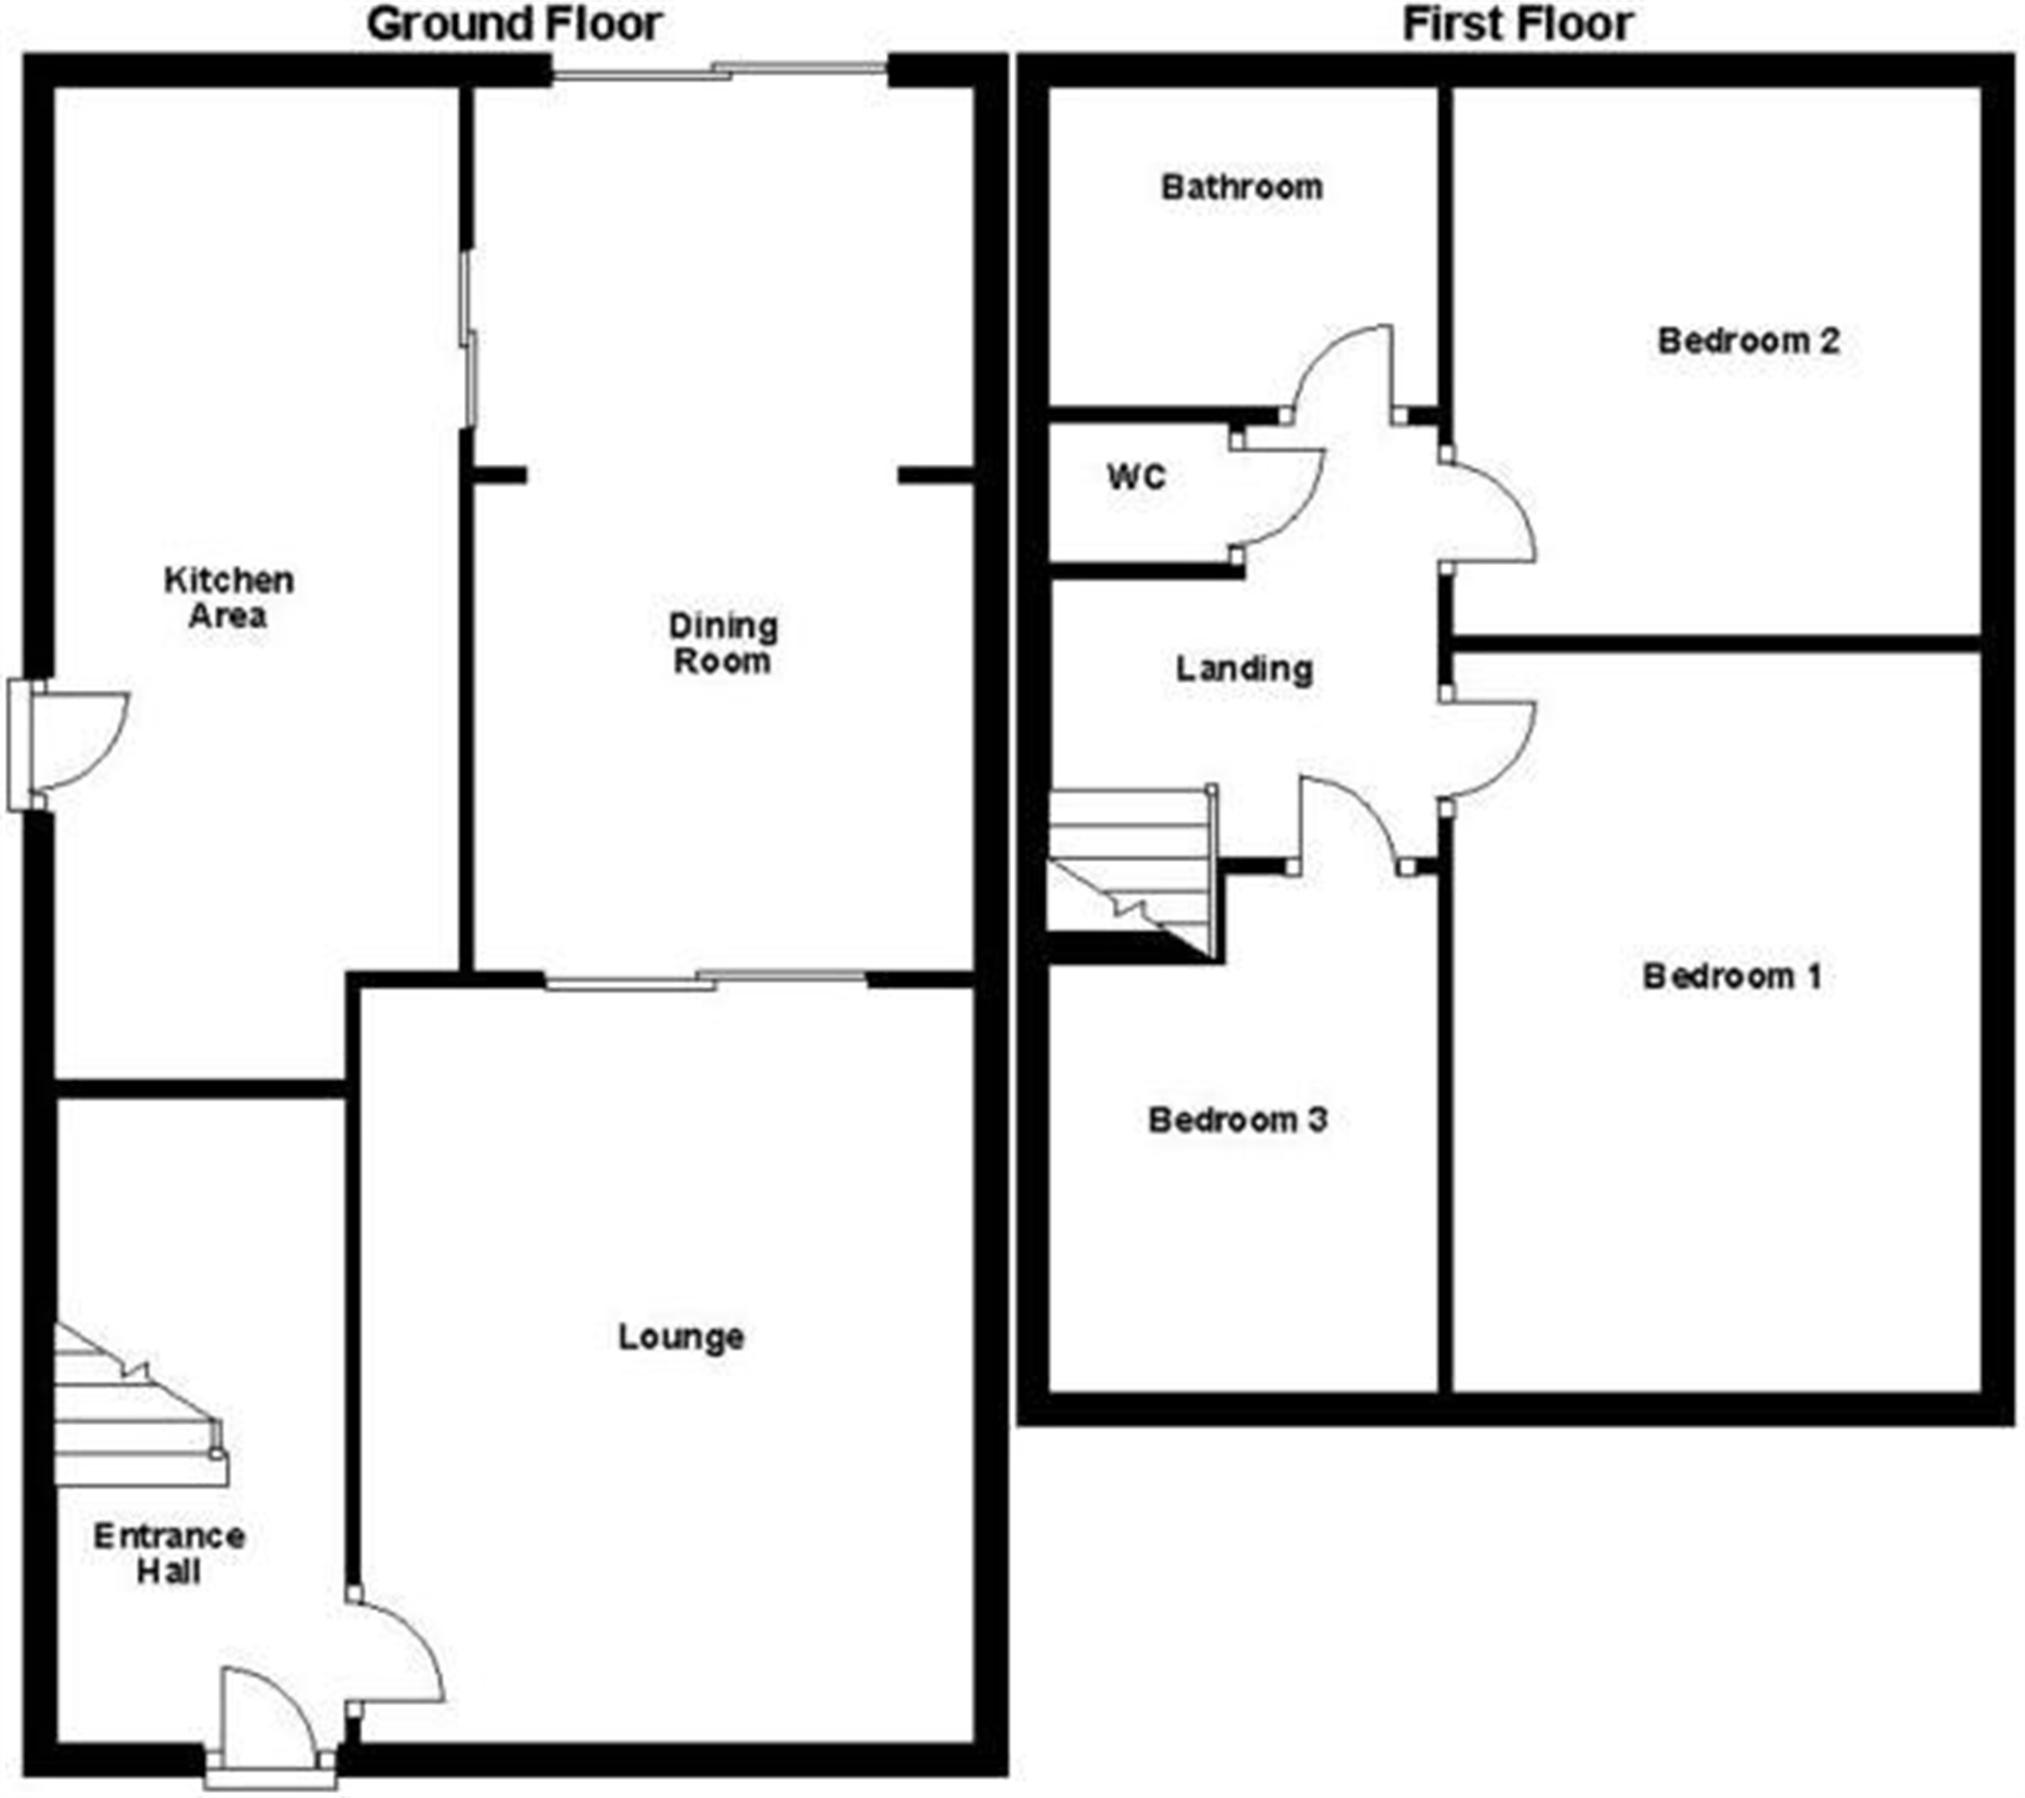wall: (1032, 57, 1041, 1409), (1996, 82, 2004, 1401), (52, 816, 62, 1756), (987, 996, 999, 1768), (352, 1748, 991, 1760), (61, 54, 552, 68), (1032, 1409, 1999, 1414), (1445, 821, 1452, 1418), (1440, 640, 1999, 647), (722, 970, 999, 982), (352, 974, 357, 1597), (991, 71, 994, 989), (359, 968, 555, 982), (1046, 71, 2008, 73), (1445, 80, 1449, 429), (47, 57, 49, 677), (49, 1090, 352, 1093), (1444, 571, 1452, 686), (469, 432, 470, 956), (1041, 573, 1235, 576), (62, 1751, 200, 1755), (1034, 410, 1286, 411), (894, 64, 1001, 68), (1032, 946, 1208, 948)
